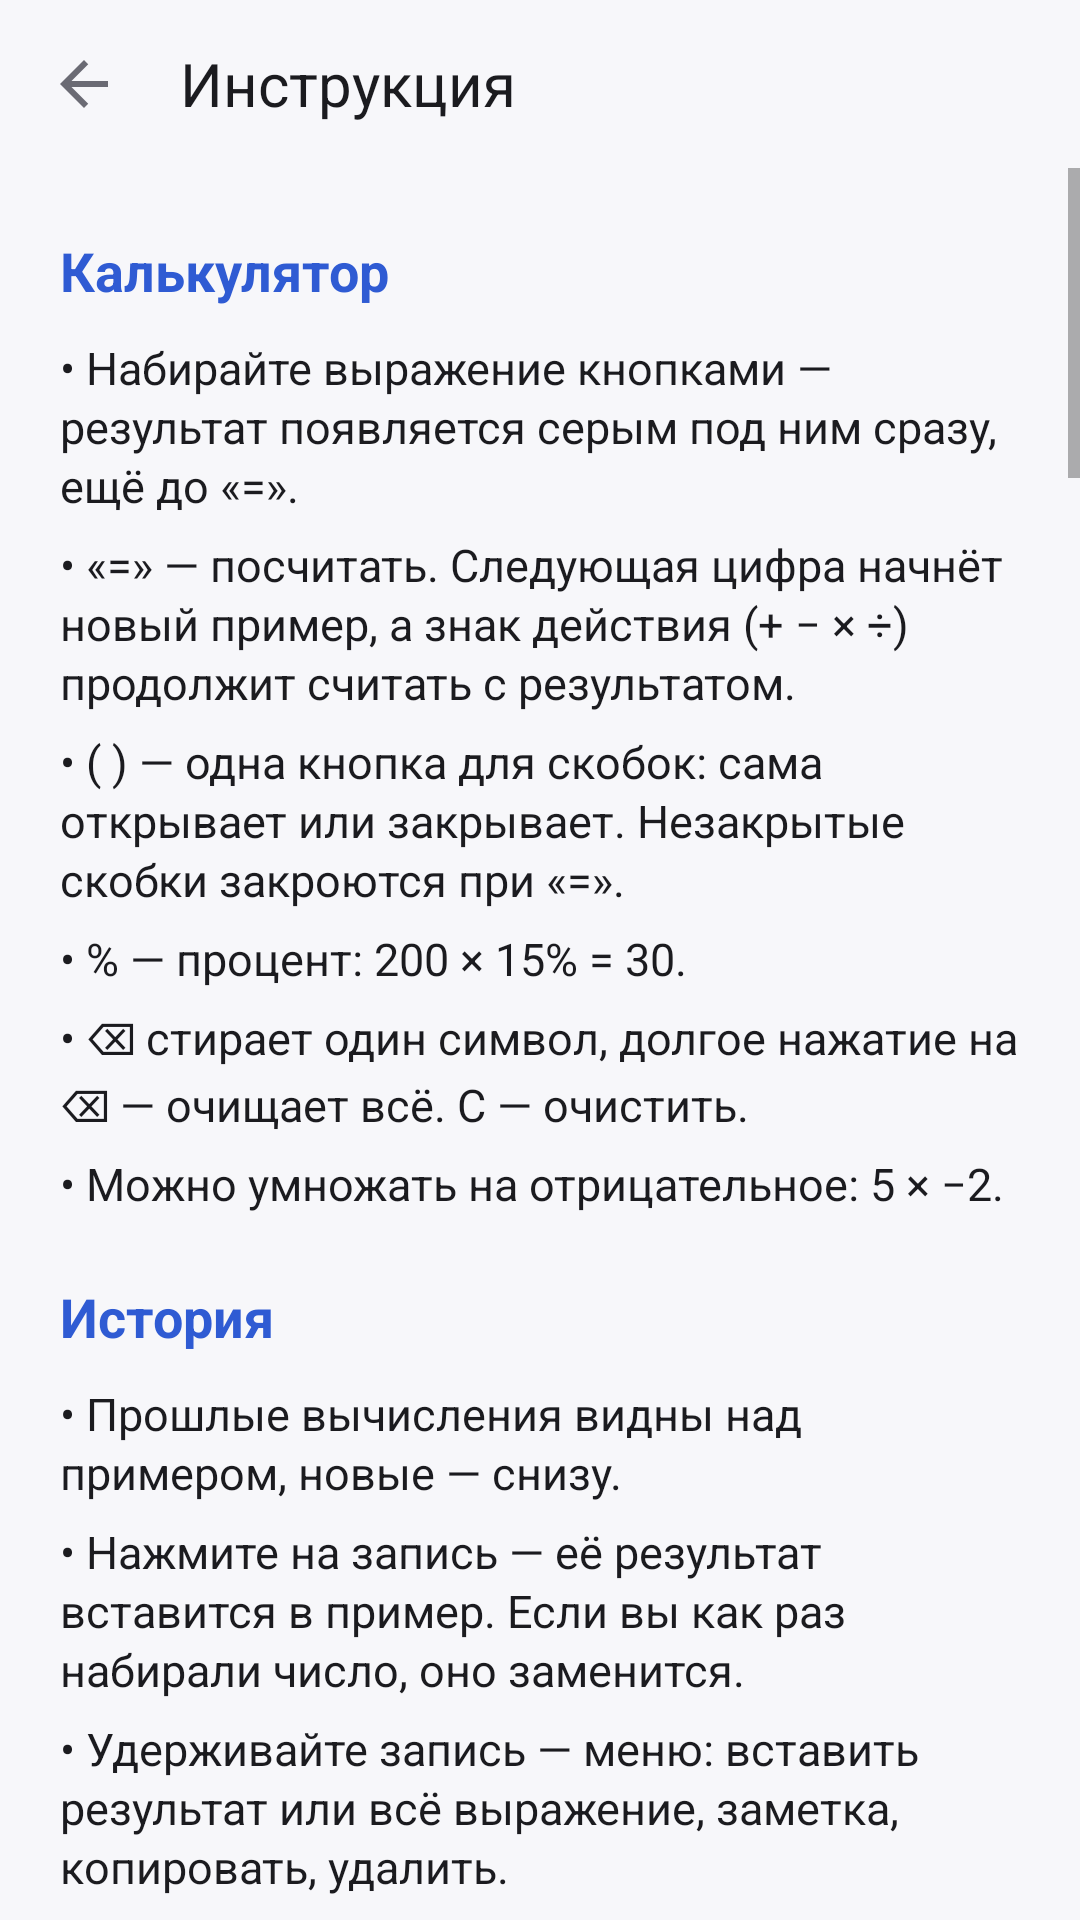

Where icons sit on this 1080x1920 app screen, as (x1, y1, x2, y2):
Назад: (60, 60, 108, 108)
